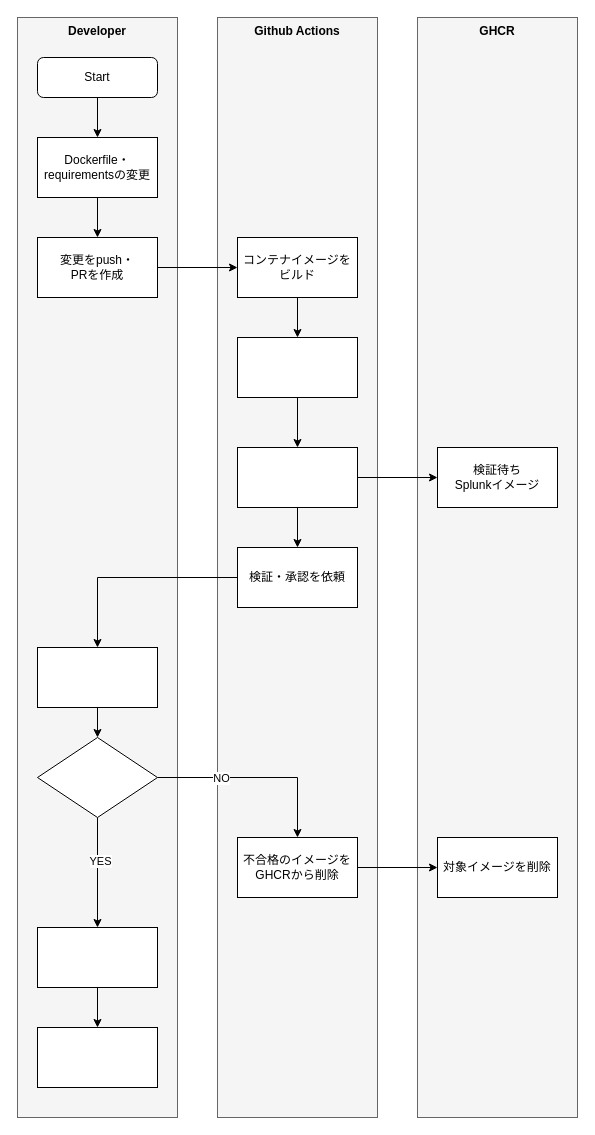
The diagram is 595 pixels wide and 1135 high, and some of its shapes have lost their labels. Here are the shapes that lost their labels. From the top down, the centre of each, then its label:
the point at 297,367: 自動テスト（Pythonバージョン・ライブラリ・Splunk起動の確認）
the point at 297,477: 検証用イメージをGHCRにpush
the point at 97,677: 対象イメージをpullして動作検証
the point at 97,777: 検証結果を承認
the point at 97,957: 承認済みイメージのタグ・digestを記録
the point at 97,1057: 終了
